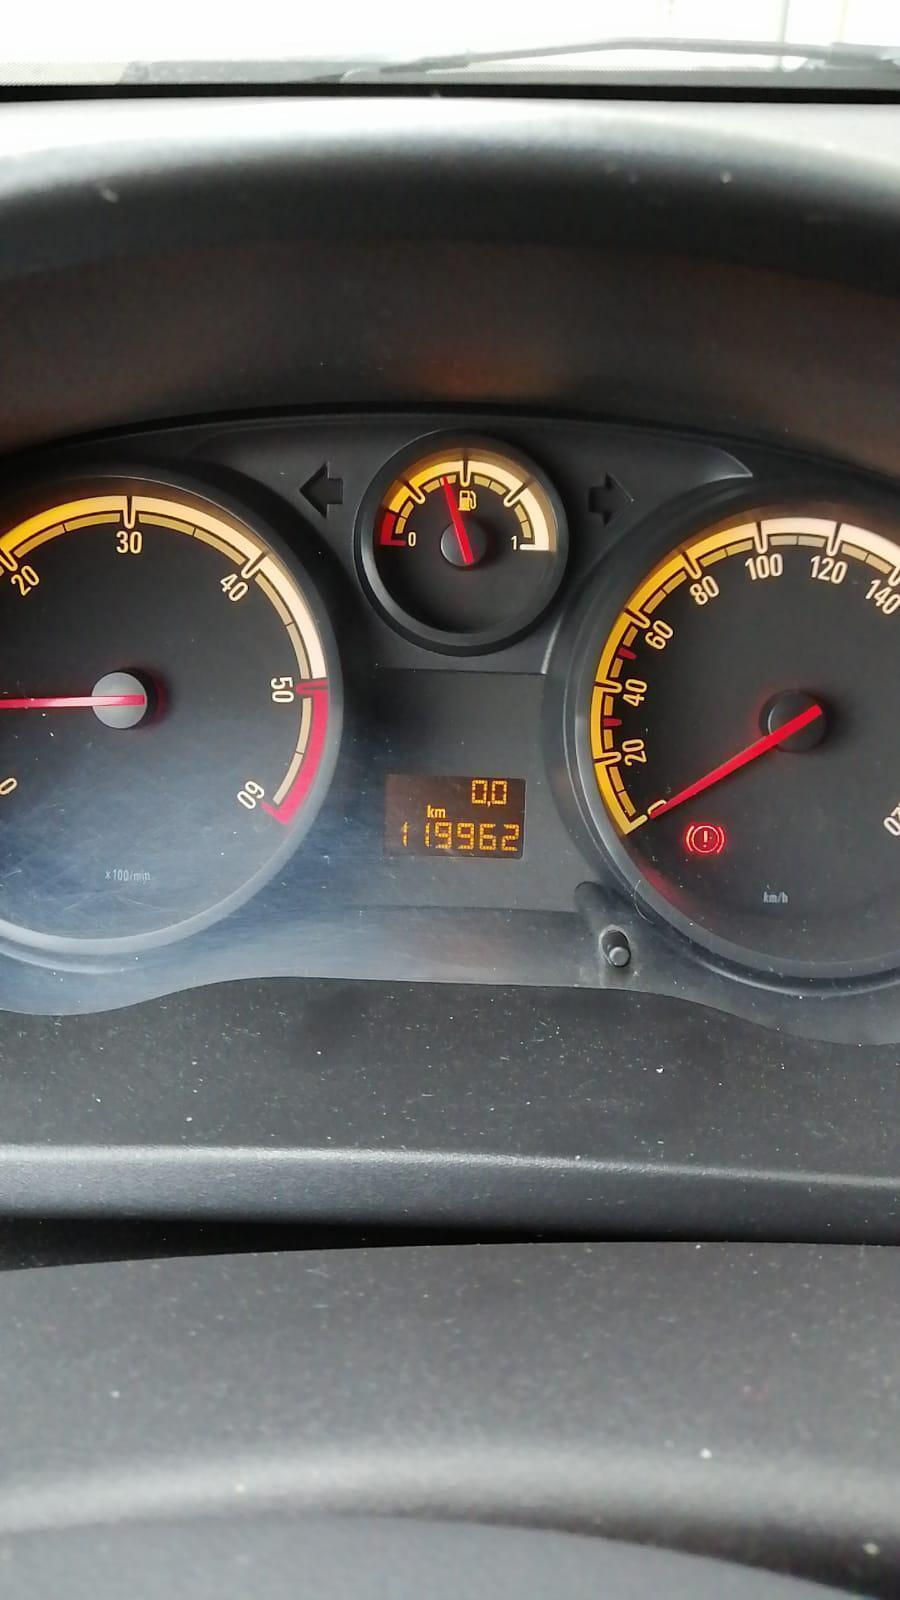,: (486, 800, 490, 807)
0: (490, 780, 508, 805), (470, 779, 488, 804)
1: (401, 821, 408, 848), (423, 822, 430, 848)
2: (500, 823, 519, 851)
6: (478, 823, 496, 851)
9: (433, 821, 452, 849), (455, 822, 474, 849)
X: (433, 808, 445, 818), (426, 804, 434, 818)
odometer: (379, 770, 527, 862)
